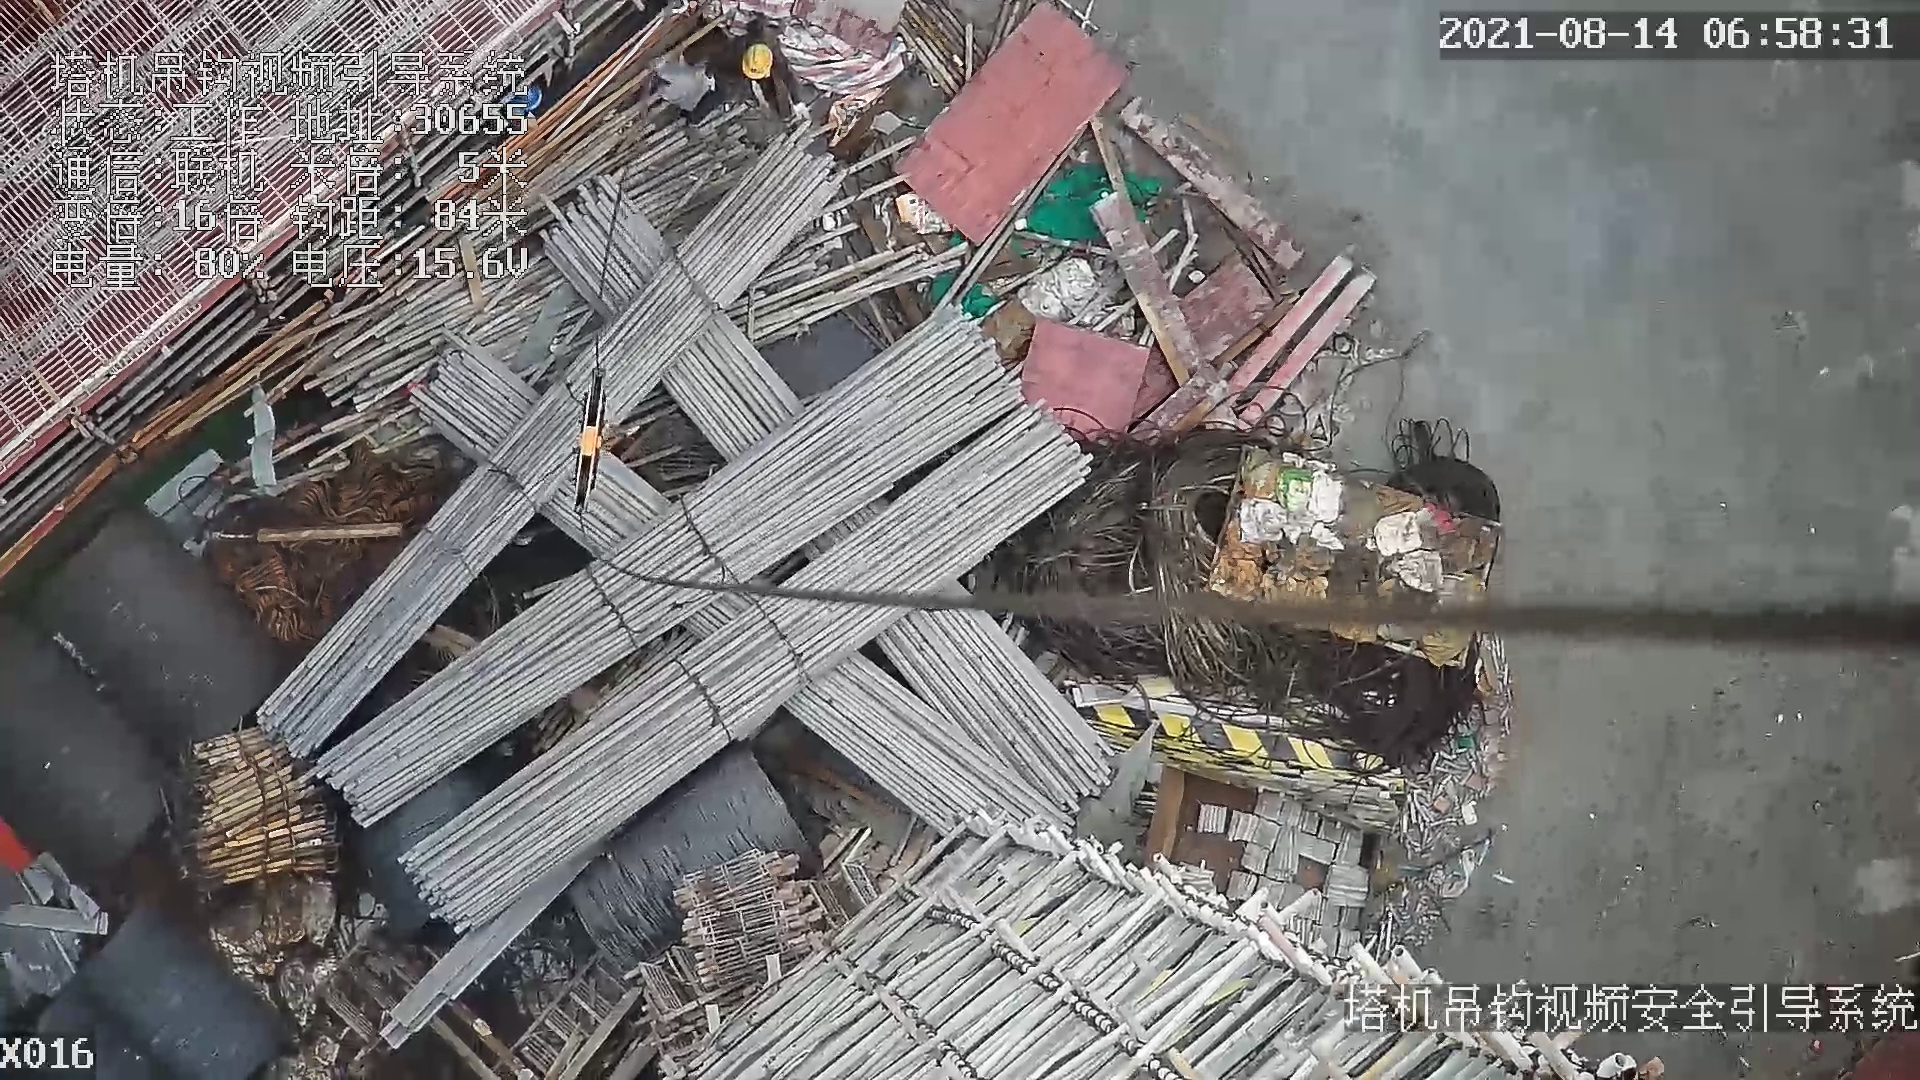helmet: (742, 43, 773, 79)
hook: (573, 364, 609, 526)
person: (710, 36, 817, 127)
rebar: (256, 135, 850, 760), (315, 304, 1021, 829), (401, 412, 1093, 927), (782, 649, 1082, 833), (877, 579, 1112, 811)
scaffold: (189, 729, 352, 888)
